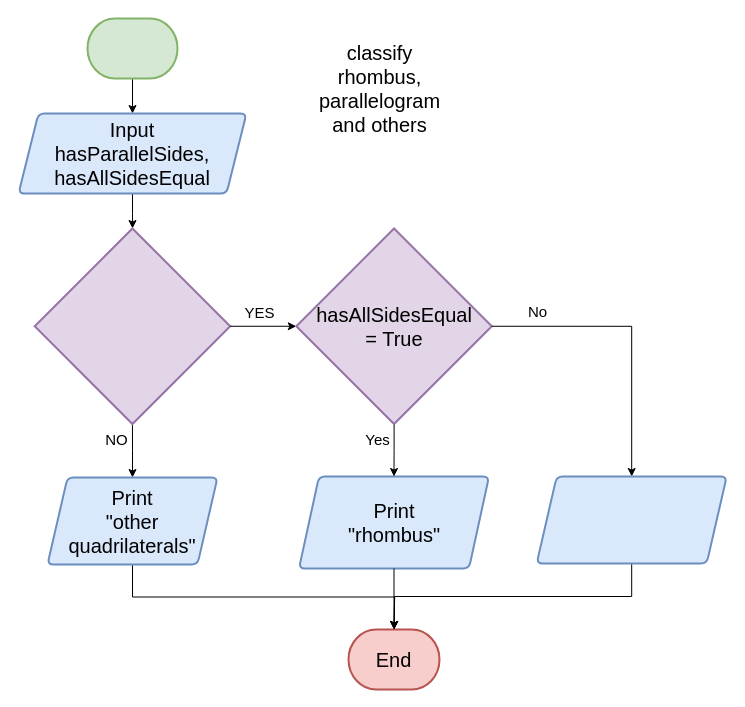
The diagram is 745 pixels wide and 707 high, and some of its shapes have lost their labels. The shapes that lost their labels are listed below. From the top down, each one's box as (x1, y1, x2, y2) in pixels, then its label:
(86, 17, 178, 79): Start
(33, 227, 231, 424): hasParallelSides = True
(535, 475, 727, 564): Print "parallelogram"
